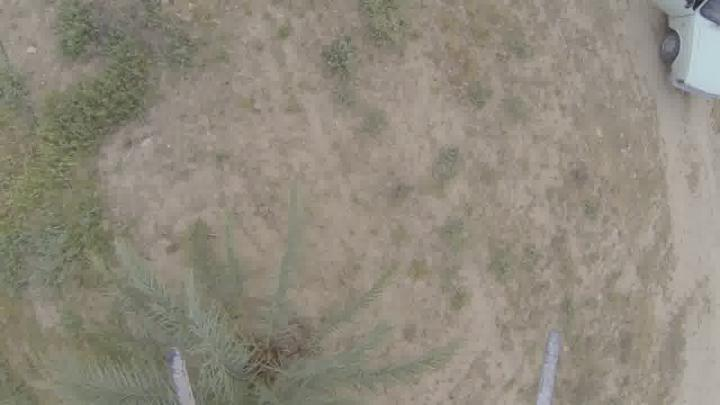Date-Palm-Crown: (135, 276, 353, 404)
